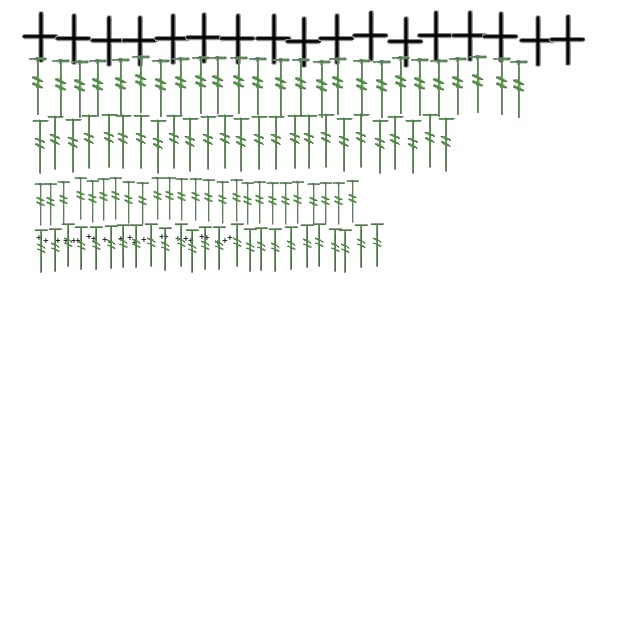double: (182, 12, 224, 66), (282, 16, 324, 70), (384, 16, 426, 70), (414, 10, 456, 64), (448, 10, 490, 64), (546, 14, 588, 68), (52, 14, 94, 66), (118, 16, 160, 68), (216, 14, 258, 66), (252, 14, 294, 66), (516, 16, 558, 68), (350, 10, 390, 64), (20, 12, 60, 64), (88, 16, 128, 68), (152, 14, 192, 66), (316, 14, 356, 66), (480, 12, 520, 64), (43, 238, 49, 244), (55, 238, 61, 244), (63, 238, 69, 244), (71, 238, 77, 244), (75, 238, 81, 244), (86, 234, 92, 240), (91, 236, 97, 242), (108, 240, 114, 246), (118, 236, 124, 242), (132, 240, 138, 246), (159, 234, 165, 240), (163, 234, 169, 240), (175, 236, 181, 242), (183, 236, 189, 242), (188, 238, 194, 244), (199, 234, 205, 240), (215, 240, 221, 246), (222, 238, 228, 244), (36, 236, 42, 240), (102, 238, 108, 242), (127, 236, 133, 240), (141, 238, 147, 242), (148, 238, 154, 242), (204, 236, 210, 240), (227, 236, 233, 240)
fan: (50, 58, 72, 120), (130, 54, 152, 116), (150, 58, 172, 120), (170, 56, 192, 118), (428, 58, 450, 120), (110, 58, 132, 118), (190, 56, 212, 116), (228, 56, 250, 116), (270, 58, 292, 118), (290, 58, 312, 118), (390, 56, 412, 116), (508, 60, 530, 120), (30, 117, 52, 177), (148, 117, 170, 177), (164, 112, 186, 172), (180, 115, 202, 175), (198, 113, 220, 173), (266, 113, 288, 173), (316, 111, 338, 171), (334, 115, 356, 175), (370, 117, 392, 177), (420, 111, 442, 171), (436, 115, 458, 175), (28, 56, 48, 118), (88, 58, 108, 120), (248, 56, 268, 118), (328, 56, 348, 118), (352, 58, 372, 120), (448, 56, 468, 118), (468, 54, 488, 116), (492, 56, 512, 118), (70, 60, 90, 120), (208, 56, 228, 116), (312, 60, 332, 120), (372, 60, 392, 120), (410, 58, 430, 118), (46, 113, 66, 173), (64, 116, 84, 176), (80, 112, 100, 172), (100, 111, 120, 171), (114, 112, 134, 172), (132, 112, 152, 172), (216, 112, 236, 172), (232, 115, 252, 175), (250, 113, 270, 173), (286, 112, 306, 172), (300, 112, 320, 172), (352, 111, 372, 171), (386, 113, 406, 173), (404, 117, 424, 177), (60, 222, 78, 268), (88, 225, 106, 271), (128, 223, 146, 269), (184, 228, 202, 274), (242, 227, 260, 273), (56, 180, 72, 226), (108, 176, 124, 222), (150, 176, 166, 222), (162, 176, 178, 222), (252, 180, 268, 226), (290, 180, 306, 226), (306, 182, 322, 228), (34, 228, 50, 274), (48, 227, 64, 273), (74, 225, 90, 271), (104, 224, 120, 270), (116, 223, 132, 269), (144, 222, 160, 268), (158, 226, 174, 272), (174, 222, 190, 268), (198, 225, 214, 271), (212, 225, 228, 271), (230, 222, 246, 268), (254, 226, 270, 272), (268, 227, 284, 273), (284, 225, 300, 271), (300, 223, 316, 269), (312, 222, 328, 268), (328, 227, 344, 273), (338, 228, 354, 274), (354, 223, 370, 269), (370, 222, 386, 268), (96, 178, 112, 222), (174, 178, 190, 222), (188, 178, 204, 222), (240, 182, 256, 226), (278, 182, 294, 226), (318, 182, 334, 226), (34, 182, 48, 228), (44, 182, 58, 228), (74, 176, 88, 222), (122, 180, 136, 226), (202, 178, 216, 224), (216, 180, 230, 226), (230, 178, 244, 224), (86, 180, 100, 224), (136, 182, 150, 226), (266, 182, 280, 226), (332, 182, 346, 226), (346, 180, 360, 224)
